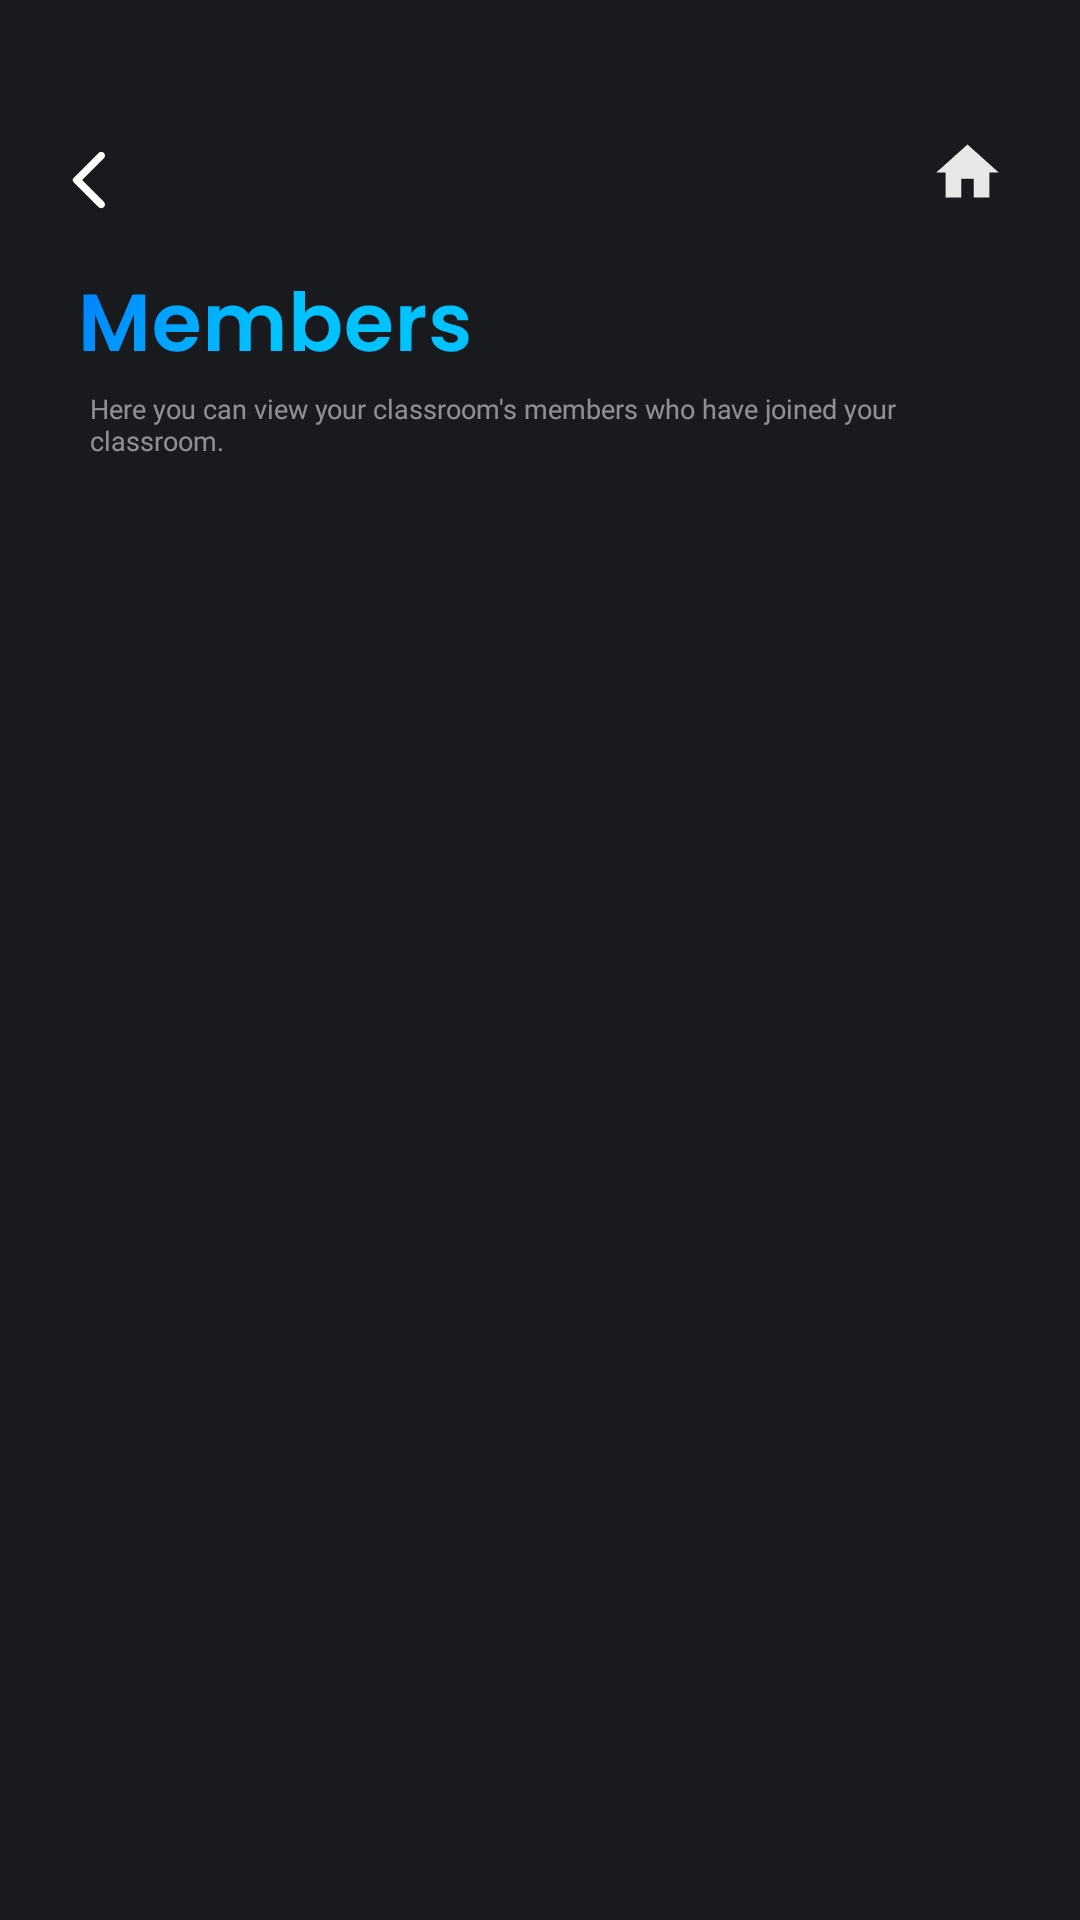

Named icons in this screenshot (1080 x 1920) and their centers, (x,y):
back: (88,180)
home: (967,171)
